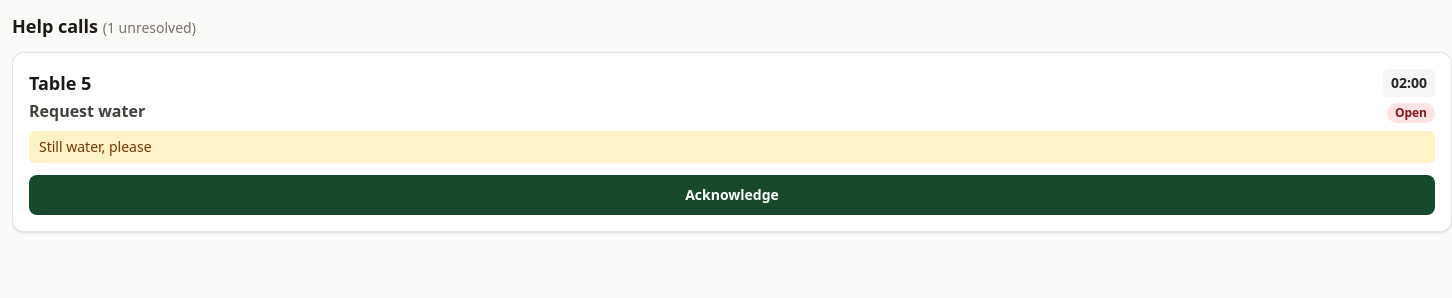
Scenario: HelpCallQueue › shows the error on the call and leaves it in place when acknowledge fails
Click the button "Acknowledge": (732, 195) [29, 175, 1435, 215]
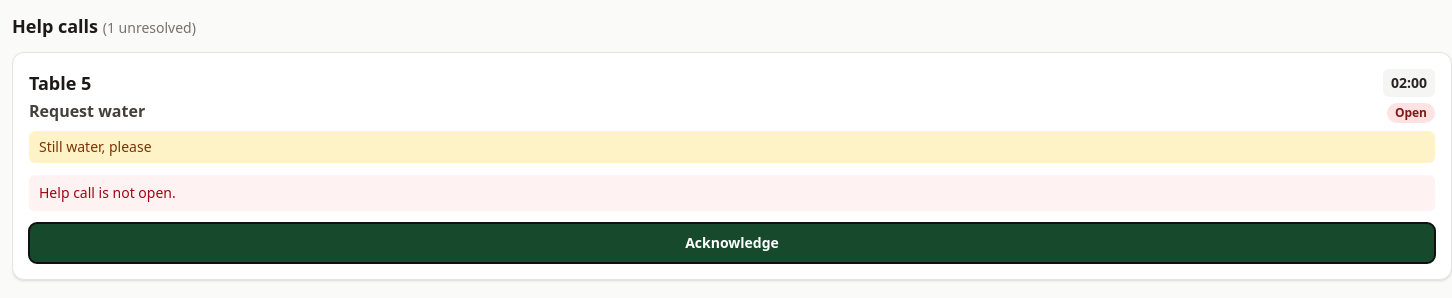
expect the button "Acknowledge" is shown: met, box [29, 223, 1435, 263]
expect the text "Help call is not open." is shown: met, box [29, 175, 1435, 211]
